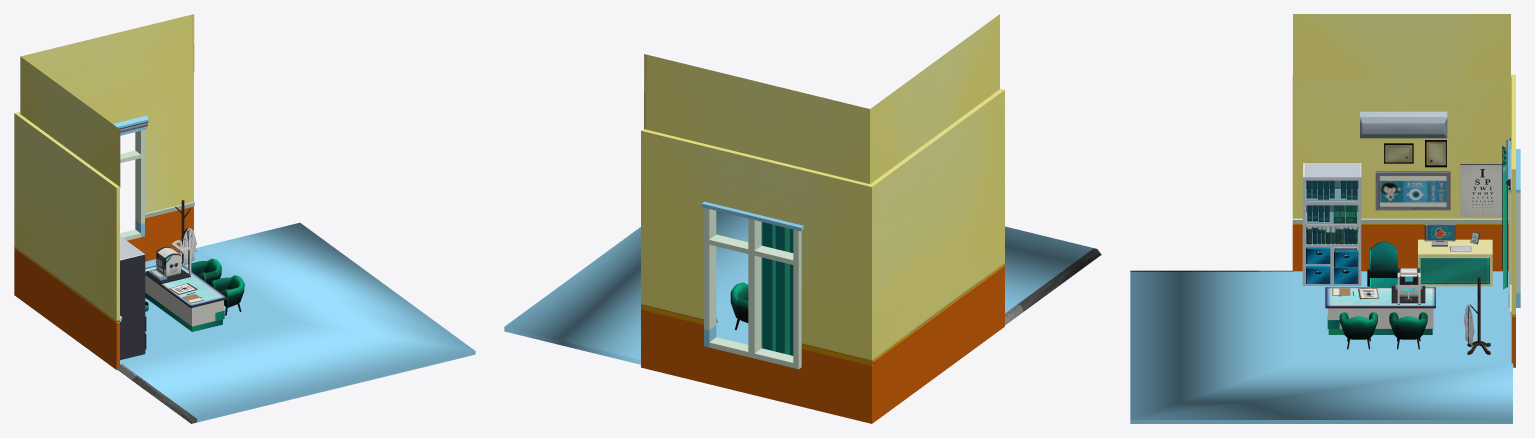
Rendered from Tx_Interior_Optical.fbx.
3 renders of one model, left to right at view 1: azimuth 30°, elevation 25°; view 2: azimuth 150°, elevation 25°; view 3: azimuth 270°, elevation 25°, orthographic. The views are drawn at different scales.
Visible parts, largest first — view 1: Tx_Interior_Work_OpticalShop:Tx_Interior_Work_OpticalShop:Tx (×2); view 2: Tx_Interior_Work_OpticalShop:Tx_Interior_Work_OpticalShop:Tx (×2); view 3: Tx_Interior_Work_OpticalShop:Tx_Interior_Work_OpticalShop:Tx (×2).
Part boxes in pixels (x1=…): Tx_Interior_Work_OpticalShop:Tx_Interior_Work_OpticalShop:Tx (×2): x1=14, y1=14, x2=475, y2=423; Tx_Interior_Work_OpticalShop:Tx_Interior_Work_OpticalShop:Tx (×2): x1=504, y1=14, x2=1101, y2=423; Tx_Interior_Work_OpticalShop:Tx_Interior_Work_OpticalShop:Tx (×2): x1=1130, y1=14, x2=1520, y2=423.
Size of the model in its own units: 36.41 by 29.34 by 39.71.
Materials: 2 (1 with a texture image).
